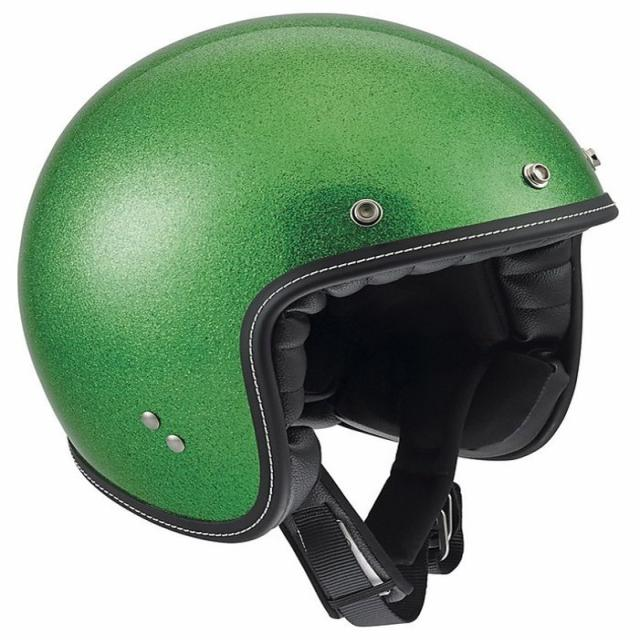Helmet: (11, 0, 629, 640)
